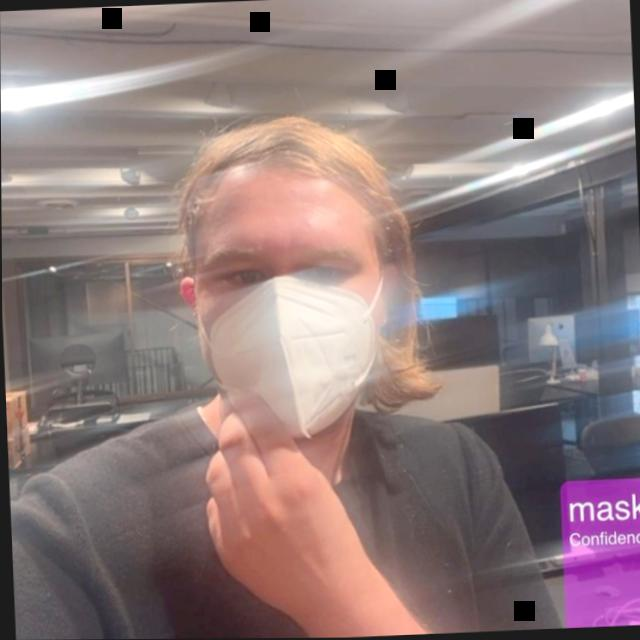Mask: (152, 92, 430, 442)
